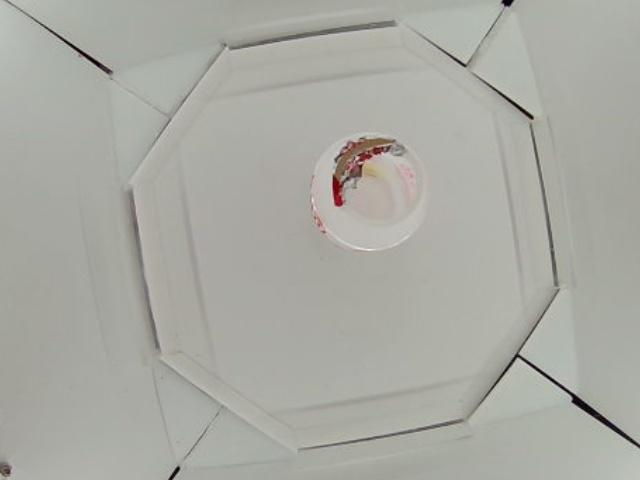Bottle: (312, 133, 423, 252)
